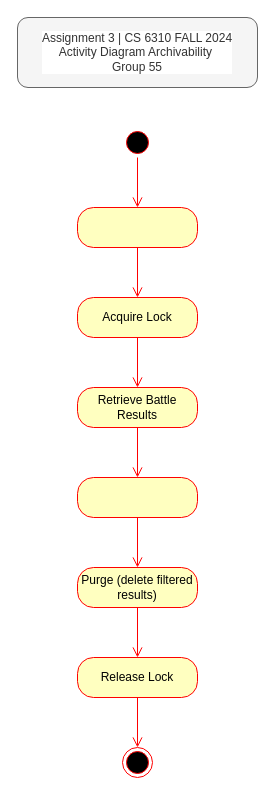
Image size: 275x795. Some labels were removed from this diagram. Each missing label, with the box of its shape:
Cron Job: (76, 206, 198, 248)
Filter: (76, 476, 198, 518)
